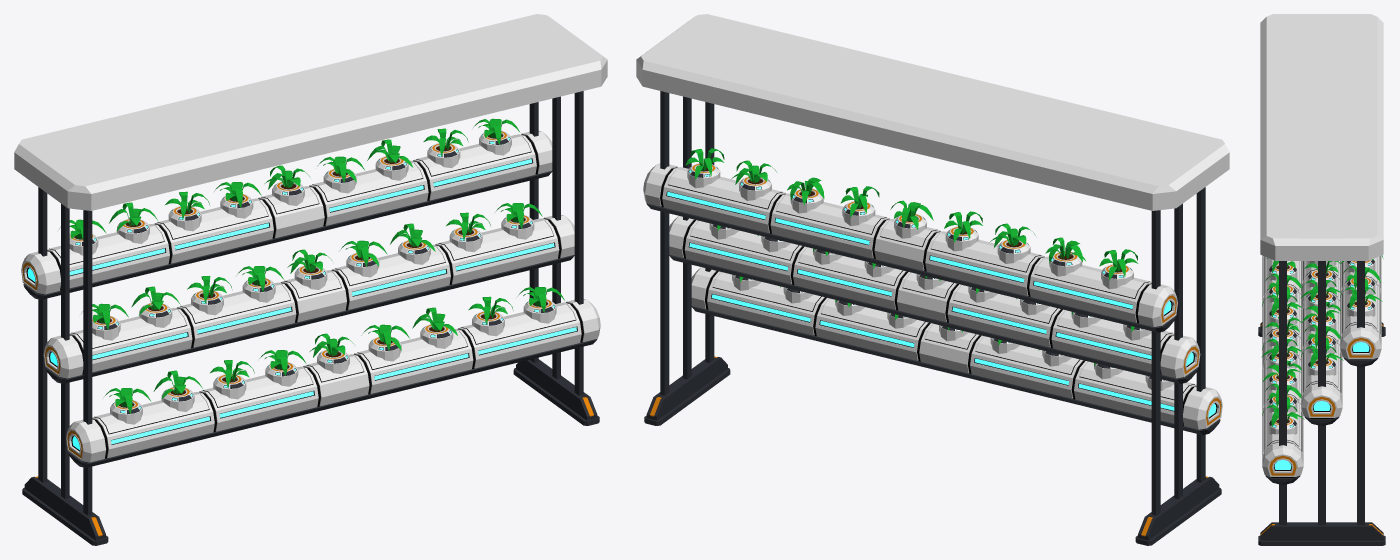
Rendered from SM_Botanical_HydroponicStation.fbx.
The picture shows the model from 3 angles, left to right: view 1: azimuth 30°, elevation 25°; view 2: azimuth 150°, elevation 25°; view 3: azimuth 270°, elevation 25°; orthographic projection. The views are drawn at different scales.
Visible parts, largest first — view 1: SM_Botanical_HydroponicStation; view 2: SM_Botanical_HydroponicStation; view 3: SM_Botanical_HydroponicStation.
Boxes of the visible parts, <box> form: SM_Botanical_HydroponicStation: <box>14,14,607,545</box>; SM_Botanical_HydroponicStation: <box>636,14,1229,545</box>; SM_Botanical_HydroponicStation: <box>1258,14,1385,545</box>.
Bounding box in the file's own units: 209 × 132 × 48.9.
